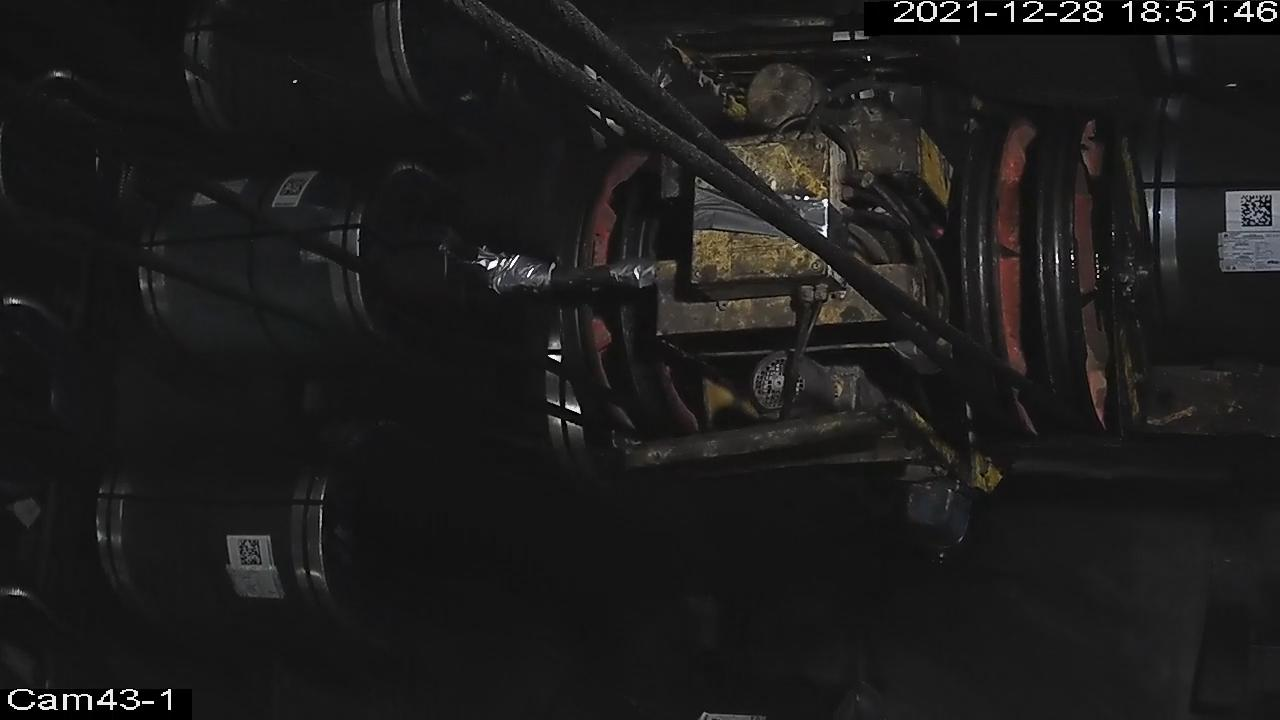data matrix: (1239, 193, 1276, 230), (237, 537, 266, 569)
